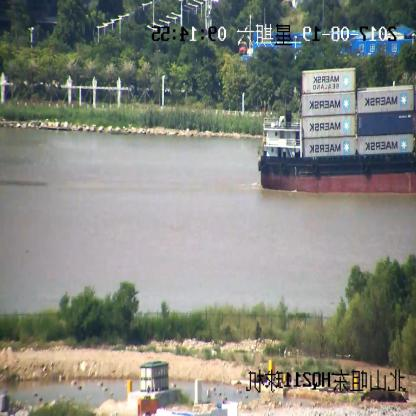Container Ship: (256, 68, 416, 194)
